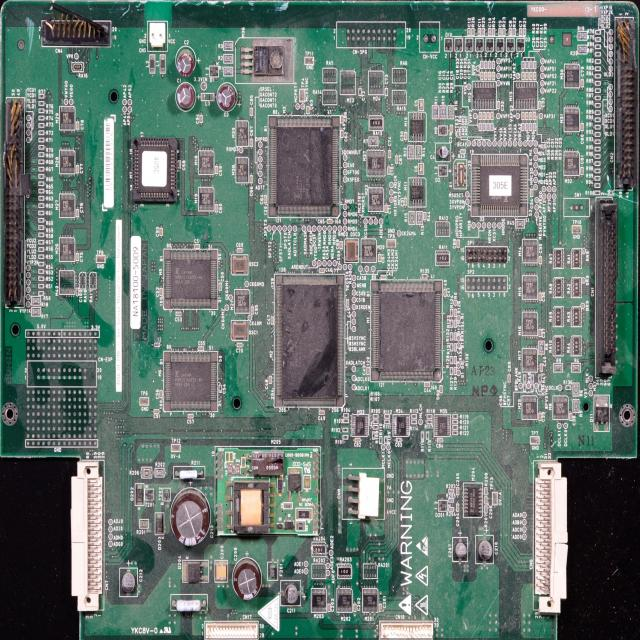Capacitor Jumper: (172, 489, 210, 547), (234, 560, 260, 602), (120, 568, 137, 598), (476, 536, 494, 562), (176, 84, 194, 110), (217, 84, 235, 110), (177, 51, 195, 75), (214, 561, 229, 586), (282, 582, 299, 604), (453, 537, 468, 561), (419, 97, 426, 112), (418, 163, 424, 174), (394, 153, 399, 165), (450, 306, 454, 320), (199, 114, 204, 125), (387, 150, 392, 161), (580, 167, 586, 176), (236, 342, 244, 348), (449, 126, 455, 134), (538, 328, 543, 337), (478, 28, 482, 39), (76, 251, 80, 262), (230, 452, 234, 462), (242, 457, 246, 467), (497, 102, 501, 112), (76, 120, 80, 130), (159, 228, 164, 236), (378, 254, 382, 264), (218, 284, 223, 292), (270, 316, 274, 326), (519, 28, 523, 38), (188, 413, 194, 419), (521, 72, 525, 81), (580, 79, 584, 88), (358, 88, 362, 97), (214, 166, 218, 175), (388, 167, 392, 176), (498, 28, 502, 37), (488, 28, 492, 37), (539, 291, 542, 302), (478, 112, 482, 120), (340, 116, 344, 124), (538, 256, 542, 264), (219, 384, 222, 394), (456, 504, 459, 514), (480, 70, 483, 80), (489, 71, 492, 81), (384, 87, 387, 97), (487, 111, 490, 121), (237, 248, 243, 253), (319, 268, 324, 274), (251, 306, 254, 316), (525, 73, 529, 80), (264, 196, 268, 203), (175, 312, 182, 316), (269, 375, 272, 384), (456, 487, 459, 496), (307, 106, 310, 115), (250, 107, 253, 116), (522, 113, 525, 122), (250, 139, 253, 148), (530, 188, 533, 197), (581, 121, 583, 134), (159, 390, 162, 398), (154, 409, 160, 413), (355, 438, 361, 442), (538, 100, 541, 108), (491, 112, 494, 120), (483, 112, 486, 120), (194, 244, 200, 248), (159, 288, 162, 296), (509, 28, 512, 36), (77, 163, 79, 174), (439, 386, 442, 393), (530, 61, 533, 68), (522, 62, 525, 69), (457, 240, 460, 247), (396, 437, 401, 441), (438, 438, 442, 443), (226, 452, 228, 462), (76, 210, 78, 220), (367, 367, 370, 373), (319, 411, 325, 414), (380, 604, 382, 613), (492, 71, 494, 80), (381, 276, 387, 279), (346, 300, 349, 306), (199, 346, 203, 350), (526, 61, 528, 69), (534, 61, 536, 69), (485, 71, 487, 79), (530, 72, 532, 80), (534, 72, 536, 80), (526, 112, 528, 120), (250, 176, 252, 184), (444, 289, 446, 297), (468, 28, 470, 36), (354, 604, 356, 611), (530, 113, 532, 120), (534, 113, 536, 119), (425, 384, 430, 386), (329, 604, 330, 613)
IC: (277, 276, 345, 406), (267, 116, 342, 216), (374, 278, 444, 385), (131, 138, 179, 208), (164, 351, 218, 413), (472, 150, 523, 215), (166, 250, 219, 309), (462, 482, 482, 516), (361, 581, 379, 613), (390, 413, 413, 437), (308, 587, 326, 613), (367, 152, 385, 178), (521, 397, 538, 423), (523, 239, 540, 264), (59, 105, 75, 131), (234, 289, 252, 312), (521, 313, 537, 338), (351, 414, 368, 436), (552, 396, 568, 419), (60, 194, 76, 217), (522, 347, 536, 373), (434, 417, 451, 438), (338, 587, 353, 610), (58, 273, 75, 293), (59, 152, 74, 173), (60, 238, 74, 260), (369, 188, 383, 209), (524, 276, 536, 298)
Resistor Jumper: (434, 252, 452, 268), (322, 68, 337, 85), (392, 68, 408, 83), (138, 517, 150, 532), (551, 362, 564, 374), (577, 43, 588, 57), (154, 466, 166, 478), (370, 118, 385, 127), (222, 66, 235, 76), (140, 468, 152, 478), (413, 144, 421, 158), (407, 145, 415, 158), (223, 41, 233, 51), (223, 54, 233, 64), (368, 136, 378, 146), (577, 31, 588, 40), (571, 363, 580, 373), (448, 105, 454, 120), (432, 106, 440, 117), (539, 340, 545, 354), (31, 307, 40, 316), (31, 297, 41, 304), (451, 413, 460, 420), (410, 413, 418, 420), (442, 104, 446, 118), (596, 160, 602, 167), (595, 29, 601, 36), (512, 28, 516, 38), (471, 28, 475, 38), (449, 332, 453, 341), (533, 123, 537, 132), (38, 94, 46, 98), (592, 132, 600, 136), (411, 419, 417, 424), (343, 434, 348, 440), (448, 507, 454, 512), (595, 67, 601, 72), (522, 123, 525, 133), (39, 137, 45, 142), (594, 140, 600, 145), (595, 146, 600, 152), (39, 224, 44, 230), (38, 247, 44, 252), (39, 262, 44, 268), (38, 269, 44, 274), (595, 192, 602, 196), (344, 419, 349, 424), (39, 108, 44, 113), (595, 124, 600, 129), (39, 151, 44, 156), (39, 181, 44, 186), (39, 276, 44, 281), (39, 116, 45, 120), (39, 123, 45, 127), (529, 122, 532, 130), (525, 123, 528, 131), (38, 130, 44, 134), (38, 196, 44, 200), (38, 204, 44, 208), (38, 218, 44, 222), (38, 232, 44, 236), (38, 240, 44, 244), (38, 255, 44, 259), (482, 28, 485, 36), (594, 177, 601, 180), (344, 414, 349, 418), (343, 428, 348, 432), (596, 59, 600, 64), (596, 96, 600, 101), (595, 104, 600, 108), (595, 110, 600, 114), (39, 159, 44, 163), (39, 188, 44, 192), (39, 210, 44, 214), (596, 47, 602, 50), (38, 145, 44, 148), (595, 185, 601, 188), (522, 28, 524, 37), (380, 436, 382, 444), (40, 167, 44, 171), (40, 284, 44, 288), (596, 38, 601, 41), (39, 102, 44, 105), (39, 175, 44, 178), (39, 292, 44, 295), (595, 84, 600, 86), (596, 89, 601, 91), (596, 119, 601, 121), (596, 53, 600, 55), (597, 76, 601, 78), (504, 29, 504, 38), (526, 30, 526, 30)
Transistor: (163, 488, 171, 502), (145, 488, 153, 501), (140, 396, 150, 406)
